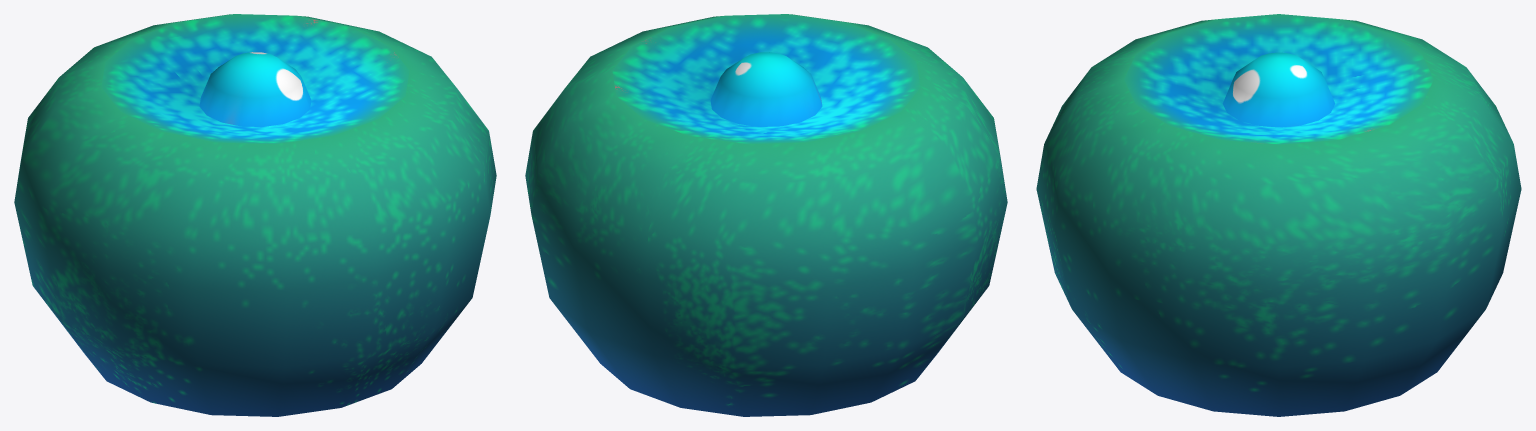
Rendered from Deco_Coral_Bulb.FBX.
The picture shows the model from 3 angles, left to right: view 1: azimuth 30°, elevation 25°; view 2: azimuth 150°, elevation 25°; view 3: azimuth 270°, elevation 25°; orthographic projection.
Visible parts, largest first — view 1: Sphere001; view 2: Sphere001; view 3: Sphere001.
Part boxes in pixels (left/top/right/bottom): Sphere001: left=14, top=14, right=496, bottom=416; Sphere001: left=525, top=14, right=1007, bottom=416; Sphere001: left=1036, top=14, right=1521, bottom=416.
Size of the model in its own units: 100 by 75.64 by 100.
